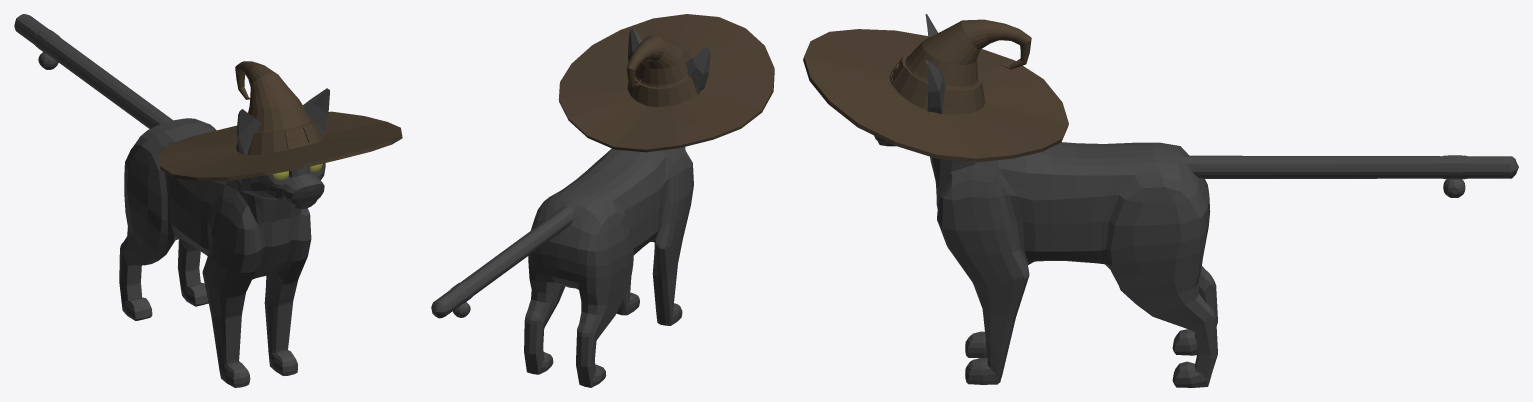
The model's file is New_Cat_Model.fbx.
3 renders of one model, left to right at view 1: azimuth 30°, elevation 25°; view 2: azimuth 150°, elevation 25°; view 3: azimuth 270°, elevation 25°, orthographic. The views are drawn at different scales.
Parts seen in each view (by area): view 1: Cat_Body_Mesh, Cat_hatt_Mesh; view 2: Cat_Body_Mesh, Cat_hatt_Mesh; view 3: Cat_Body_Mesh, Cat_hatt_Mesh.
Boxes of the visible parts, <box> form: Cat_Body_Mesh: <box>14,14,329,387</box>; Cat_hatt_Mesh: <box>158,61,402,181</box>; Cat_Body_Mesh: <box>431,28,710,387</box>; Cat_hatt_Mesh: <box>558,14,774,152</box>; Cat_Body_Mesh: <box>874,14,1518,387</box>; Cat_hatt_Mesh: <box>803,19,1068,162</box>.
Size of the model in its own units: 44.85 by 61.84 by 116.
